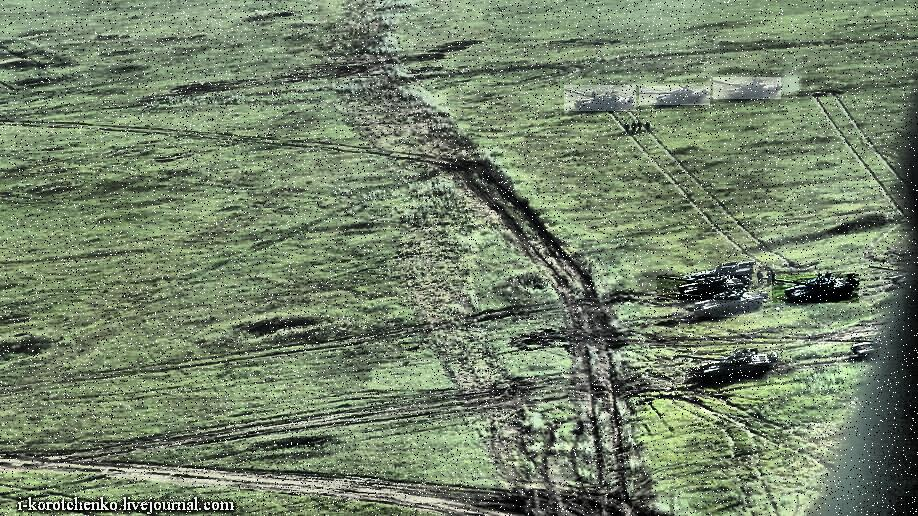military-vehicle: (675, 351, 778, 382), (772, 274, 859, 303), (658, 276, 750, 301), (672, 293, 763, 318), (565, 86, 637, 112), (714, 77, 782, 99), (639, 87, 710, 106)
